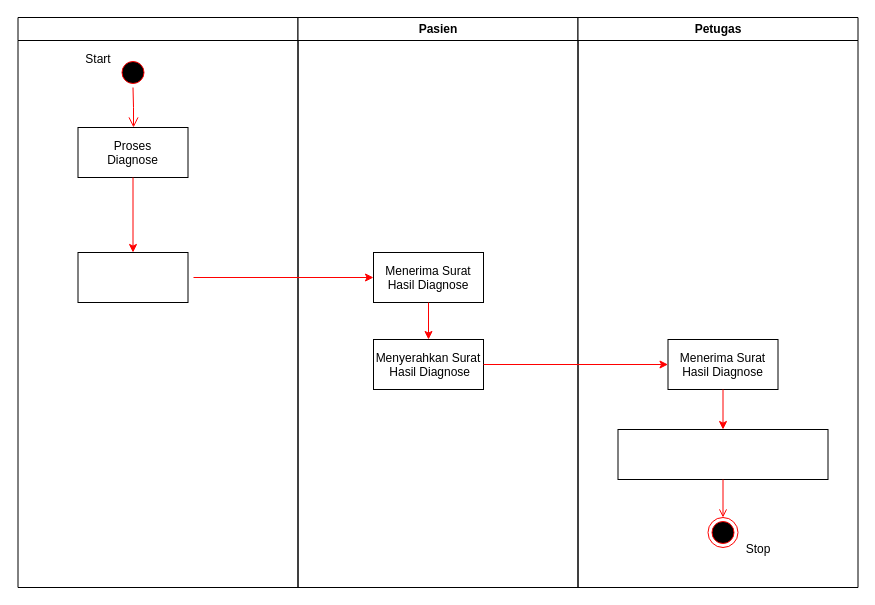
Some shapes in this 875 by 605 pixel diagram are drawn without their labels. The box of each missing label's shape, as (x1, y1, x2, y2) in pixels:
Dokter: (17, 16, 298, 588)
Menyalin Riwayat Penyakit Pada Surat Diagnose: (617, 428, 828, 480)
Surat Hasil Diagnose: (77, 252, 188, 302)
